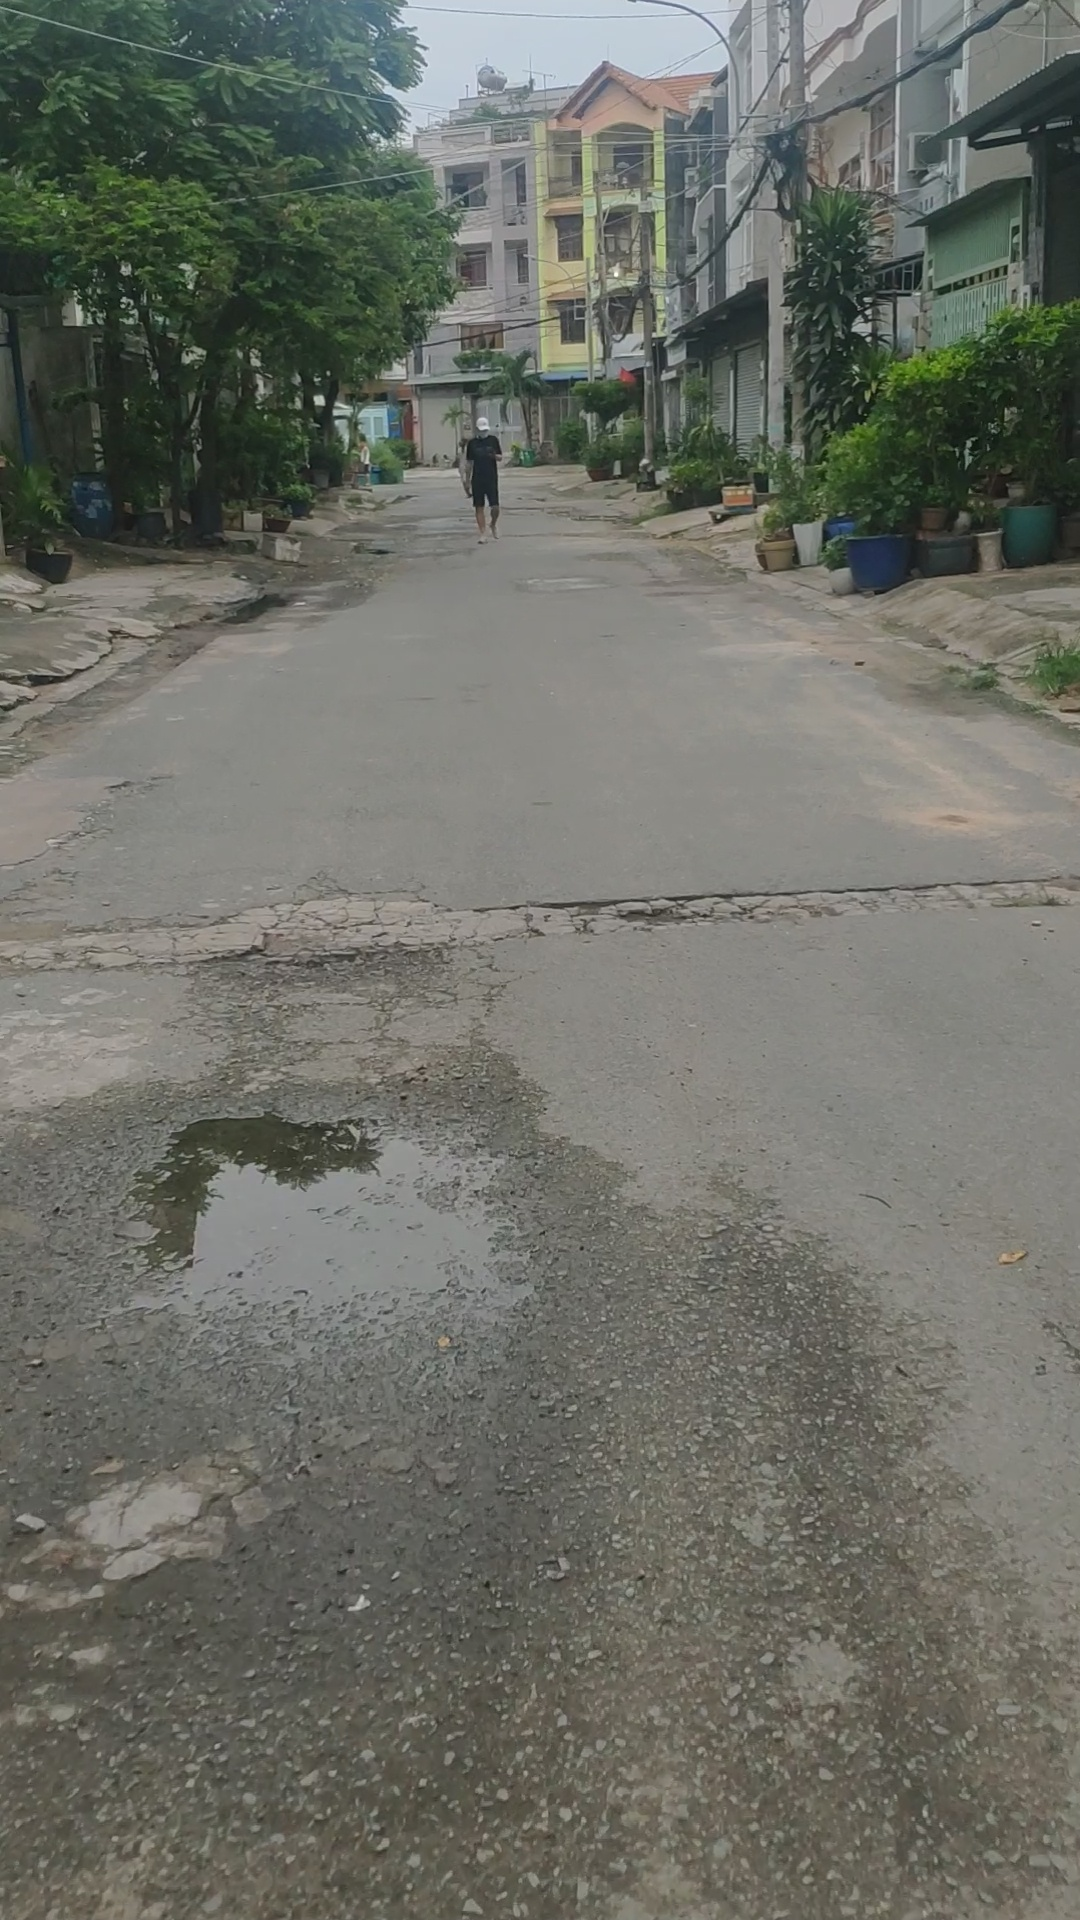hole: (105, 1089, 533, 1331), (164, 918, 489, 1058), (531, 884, 837, 932), (208, 588, 295, 632), (345, 535, 400, 560)
